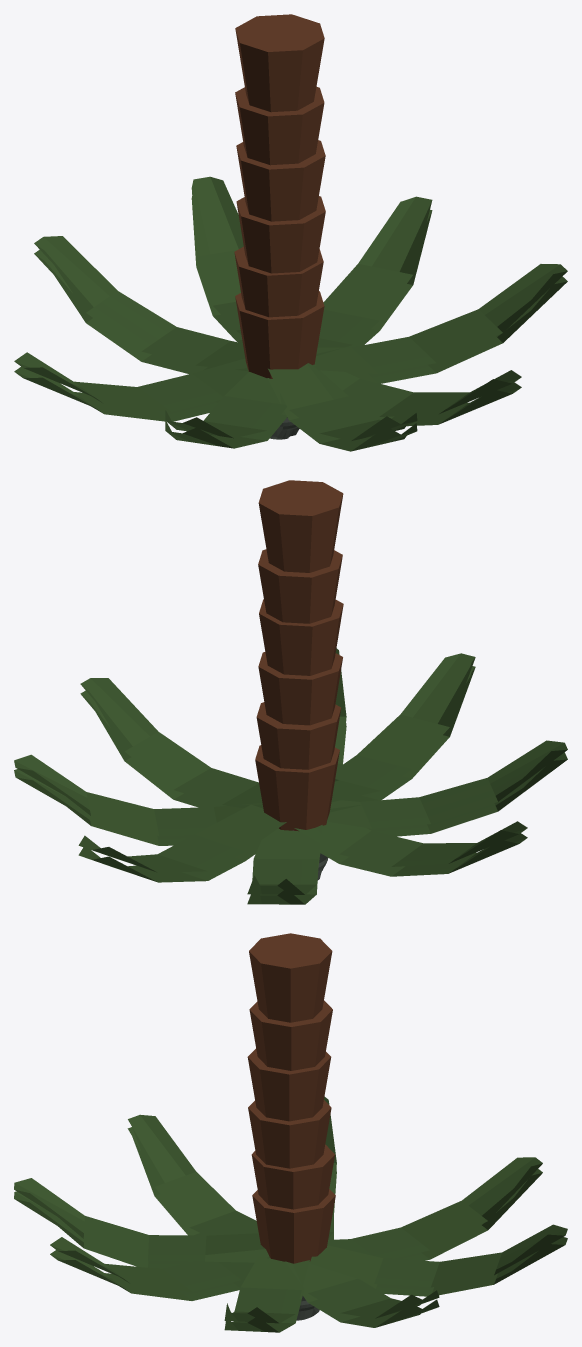
File: Fancytree123.fbx
3 renders of one model, top to bottom at view 1: azimuth 30°, elevation 25°; view 2: azimuth 150°, elevation 25°; view 3: azimuth 270°, elevation 25°, orthographic. The views are drawn at different scales.
Parts seen in each view (by area): view 1: Cube.001, Cube, Cube.004; view 2: Cube.001, Cube, Cube.004; view 3: Cube.001, Cube, Cube.004.
Boxes of the visible parts, x1,y1,x2,y2 form: Cube.001: (14,176,567,441); Cube: (234,14,325,378); Cube.004: (14,196,567,451); Cube.001: (14,648,567,894); Cube: (255,480,343,831); Cube.004: (14,666,567,904); Cube.001: (14,1096,567,1323); Cube: (247,933,335,1263); Cube.004: (14,1127,567,1332).
Bounding box in the file's own units: 1351 × 1035 × 1422.
